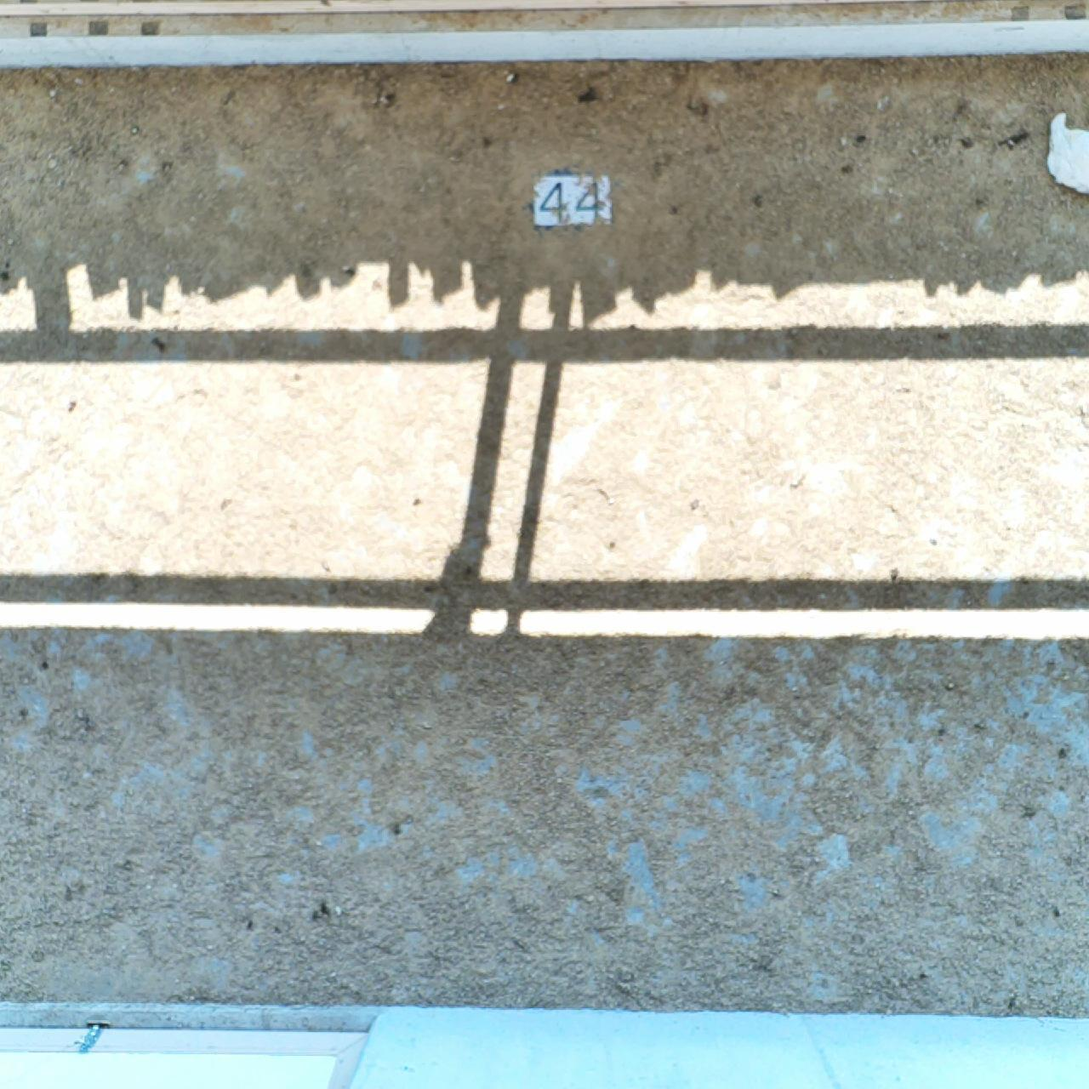chicken: (1046, 113, 1089, 193)
